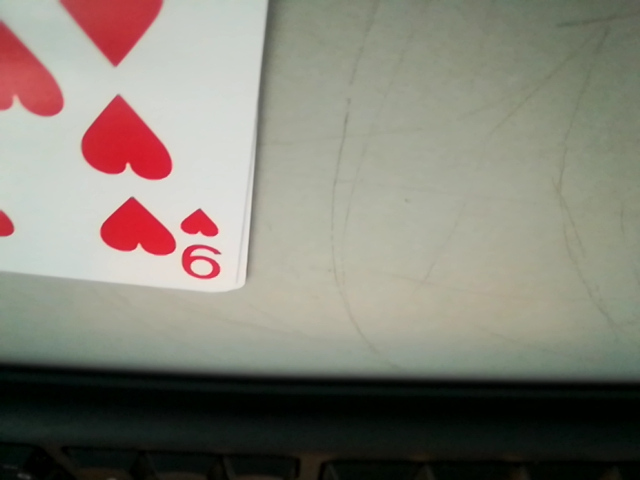hx 9: (174, 206, 232, 287)
